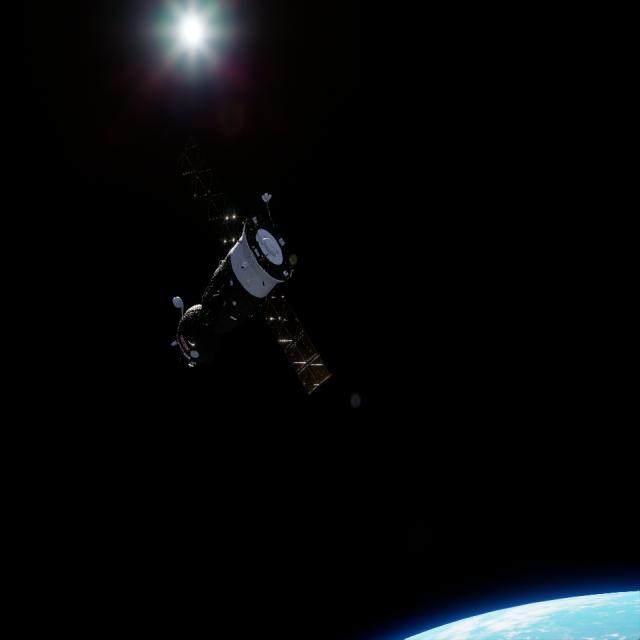Satellites revolving around earth: (170, 188, 332, 398)
